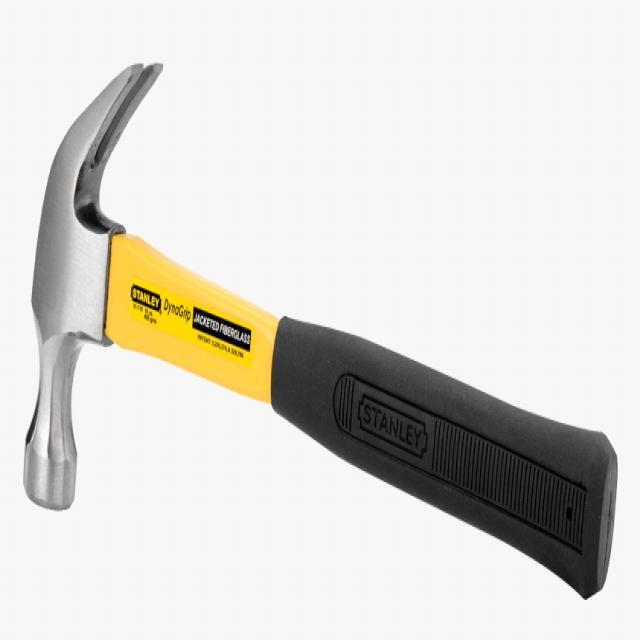hammer: (18, 48, 622, 609)
